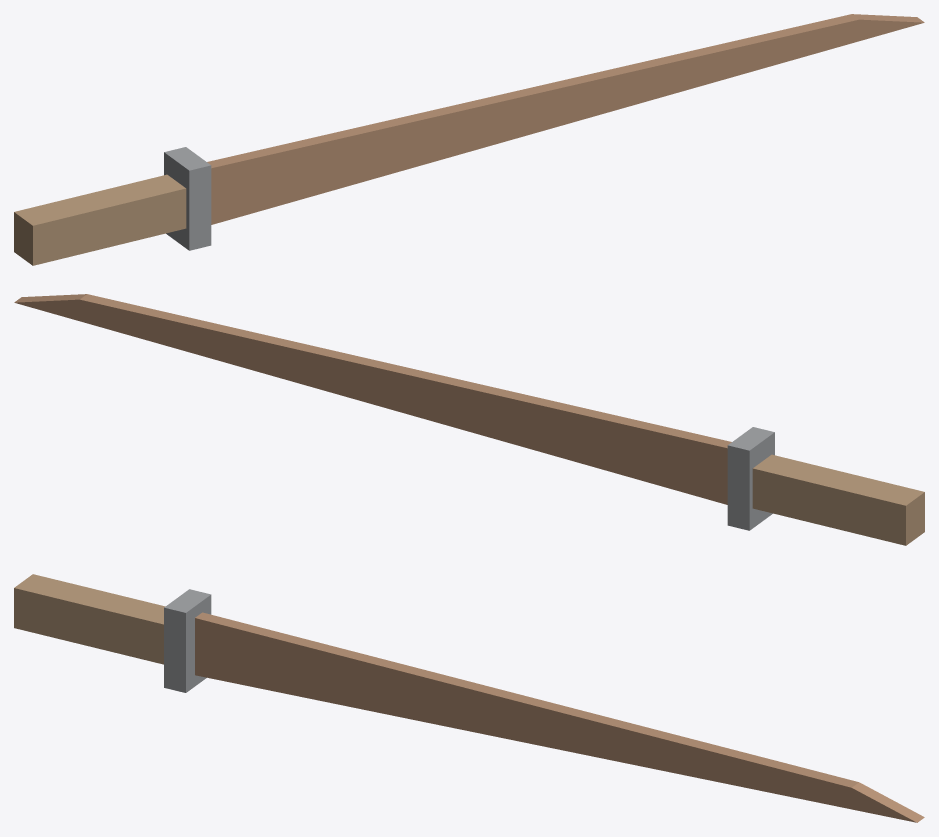
The model's file is held_weapon_salvaged_sword.glb.
3 renders of one model, top to bottom at view 1: azimuth 30°, elevation 25°; view 2: azimuth 150°, elevation 25°; view 3: azimuth 330°, elevation 25°, orthographic.
Visible parts, largest first — view 1: held_weapon_salvaged_sword; view 2: held_weapon_salvaged_sword; view 3: held_weapon_salvaged_sword.
Boxes of the visible parts, x1=… form: held_weapon_salvaged_sword: x1=14, y1=14, x2=924, y2=265; held_weapon_salvaged_sword: x1=14, y1=294, x2=924, y2=545; held_weapon_salvaged_sword: x1=14, y1=574, x2=924, y2=822.
Size of the model in its own units: 0.82 by 0.07 by 0.04.
